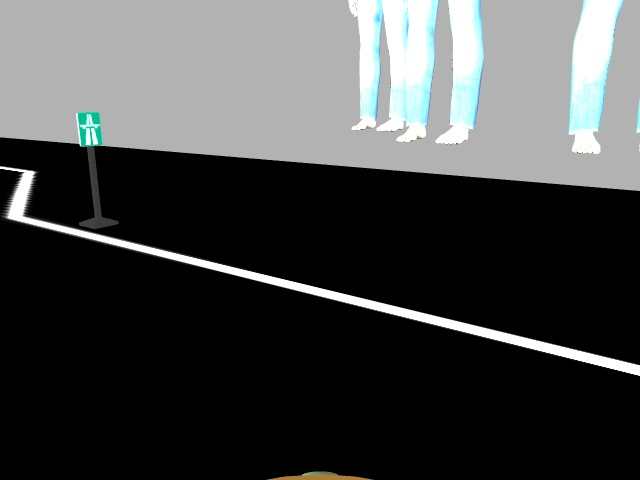HighwayEntrance: (77, 114, 102, 146)
